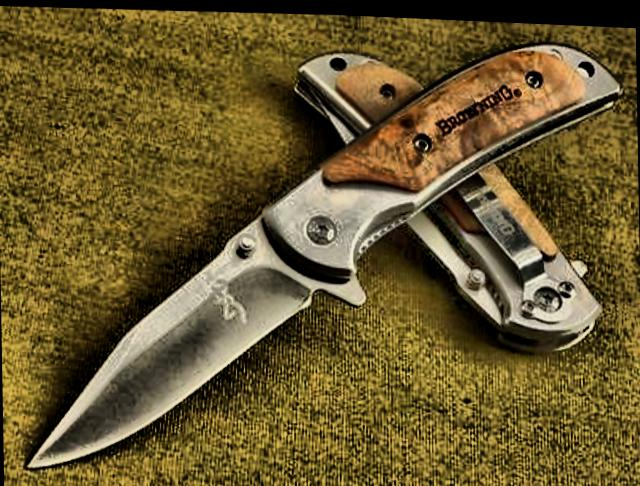knife: (16, 193, 320, 486)
